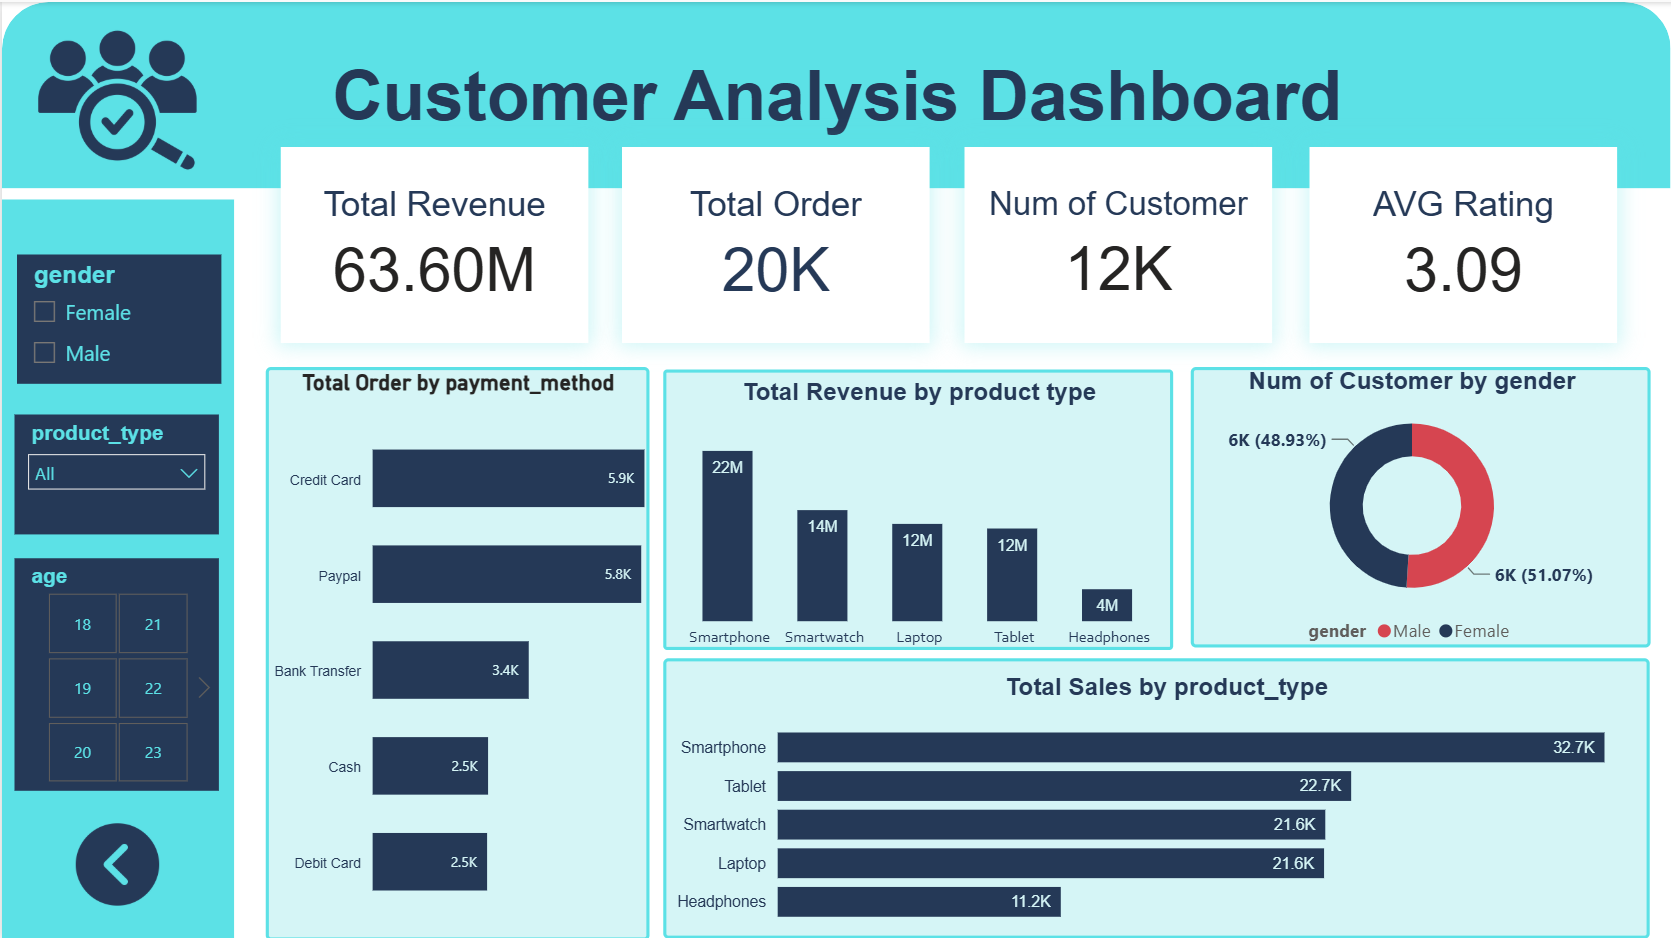

This screenshot's page, from the dashboard's own definition file:
{"tool":"powerbi","page":{"name":"Dashboard","canvas":[1280,720],"ordinal":1},"visuals":[{"type":"shape","box":[0,0,1280.2,143],"z":0},{"type":"actionButton","box":[145.3,14.5,989.6,115.1],"z":1000},{"type":"cardVisual","fields":{"Data":["customer_analysis fact_sales.Total Revenue"]},"box":[214,111.6,236,150],"z":2000},{"type":"shape","box":[0,151.4,178,568.1],"z":3000},{"type":"cardVisual","fields":{"Data":["customer_analysis fact_sales.Total Order"]},"box":[475.6,111.6,236,150],"z":4000},{"type":"cardVisual","fields":{"Data":["customer_analysis fact_sales.Num of Customer"]},"box":[738.4,111.6,236,150],"z":5000},{"type":"cardVisual","fields":{"Data":["customer_analysis fact_sales.AVG Rating"]},"box":[1003.5,111.6,236,150],"z":6000},{"type":"shape","box":[912,279.8,352.5,215.6],"z":7000},{"type":"shape","box":[507.5,282.2,391.2,215.6],"z":8000},{"type":"shape","box":[507.5,503.9,757,215.6],"z":9000},{"type":"columnChart","title":"Total Revenue by product type","fields":{"Category":["customer_analysis fact_sales.product_type"],"Y":["customer_analysis fact_sales.Total Revenue"]},"box":[503.9,288.3,400.9,215.6],"z":10000},{"type":"donutChart","fields":{"Category":["customer_analysis fact_sales.gender"],"Y":["customer_analysis fact_sales.Num of Customer"]},"box":[883,279.8,397.3,221.7],"z":11000},{"type":"barChart","fields":{"Y":["customer_analysis fact_sales.Total Sales"],"Category":["customer_analysis fact_sales.product_type"]},"box":[507.5,514.8,772.8,204.7],"z":11001},{"type":"shape","box":[202.3,279.8,294.3,439.7],"z":11002},{"type":"clusteredBarChart","fields":{"Y":["customer_analysis fact_sales.Total Order"],"Category":["customer_analysis fact_sales.payment_method"]},"box":[197.4,282.2,305.2,437.2],"z":11003},{"type":"slicer","fields":{"Values":["customer_analysis fact_sales.gender"]},"box":[11,193.3,156.5,99.4],"z":11004},{"type":"slicer","fields":{"Values":["customer_analysis fact_sales.product_type"]},"box":[9.2,316.7,156.5,92.1],"z":11005},{"type":"slicer","fields":{"Values":["customer_analysis fact_sales.age"]},"box":[9.2,427.2,156.5,178.6],"z":11006},{"type":"image","box":[10.9,7.3,156.2,135.7],"z":11007},{"type":"image","box":[51.6,611.3,73.6,101.3],"z":11008}]}

Visuals, with their boxes in screenshot pixels (x1, y1, x2, y2), scaled from the page's 1280x720 canvas onto the 1671x938 screenshot:
shape: 0 0 1670 186
actionButton: 190 19 1482 169
cardVisual - customer_analysis fact_sales.Total Revenue: 279 145 587 341
shape: 0 197 232 937
cardVisual - customer_analysis fact_sales.Total Order: 621 145 929 341
cardVisual - customer_analysis fact_sales.Num of Customer: 964 145 1272 341
cardVisual - customer_analysis fact_sales.AVG Rating: 1310 145 1618 341
shape: 1191 365 1651 645
shape: 663 368 1173 649
shape: 663 656 1651 937
"Total Revenue by product type" columnChart: 658 376 1181 656
donutChart - customer_analysis fact_sales.gender x customer_analysis fact_sales.Num of Customer: 1153 365 1670 653
barChart - customer_analysis fact_sales.Total Sales x customer_analysis fact_sales.product_type: 663 671 1670 937
shape: 264 365 648 937
clusteredBarChart - customer_analysis fact_sales.Total Order x customer_analysis fact_sales.payment_method: 258 368 656 937
slicer - customer_analysis fact_sales.gender: 14 252 219 381
slicer - customer_analysis fact_sales.product_type: 12 413 216 533
slicer - customer_analysis fact_sales.age: 12 557 216 789
image: 14 10 218 186
image: 67 796 163 928
